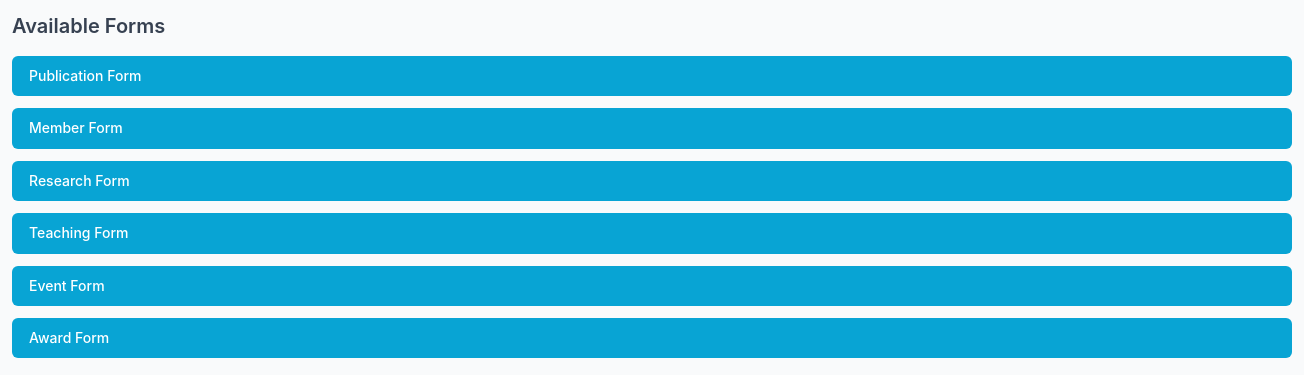
Test case: AdminForm.vue › shows PublicationForm when clicking Publication Form button
Click the button "Publication Form".
click(85, 76)  # box [12,56,1292,96]
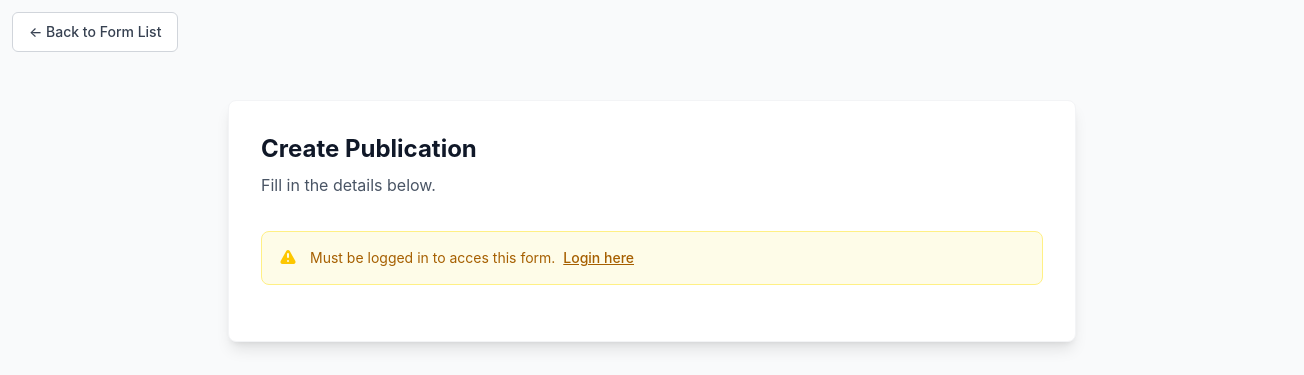
Check: the button "← Back to Form List" is shown, box [12,12,178,52]
